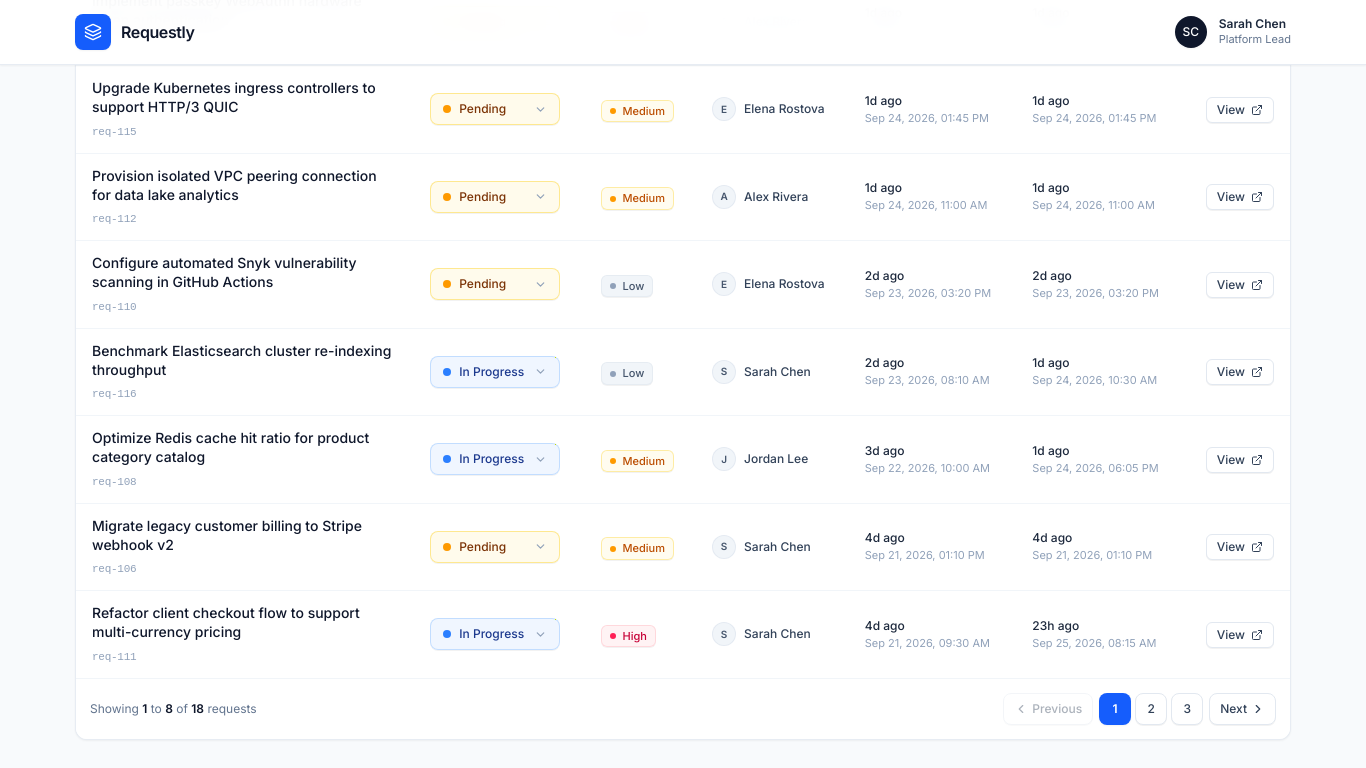
Scenario: Request Management Dashboard Integration Tests › navigates across pages and updates URL page parameter
(page scrolled)
Click the button with test id "pagination-next".
click(1243, 708)  # box [1209,692,1276,724]
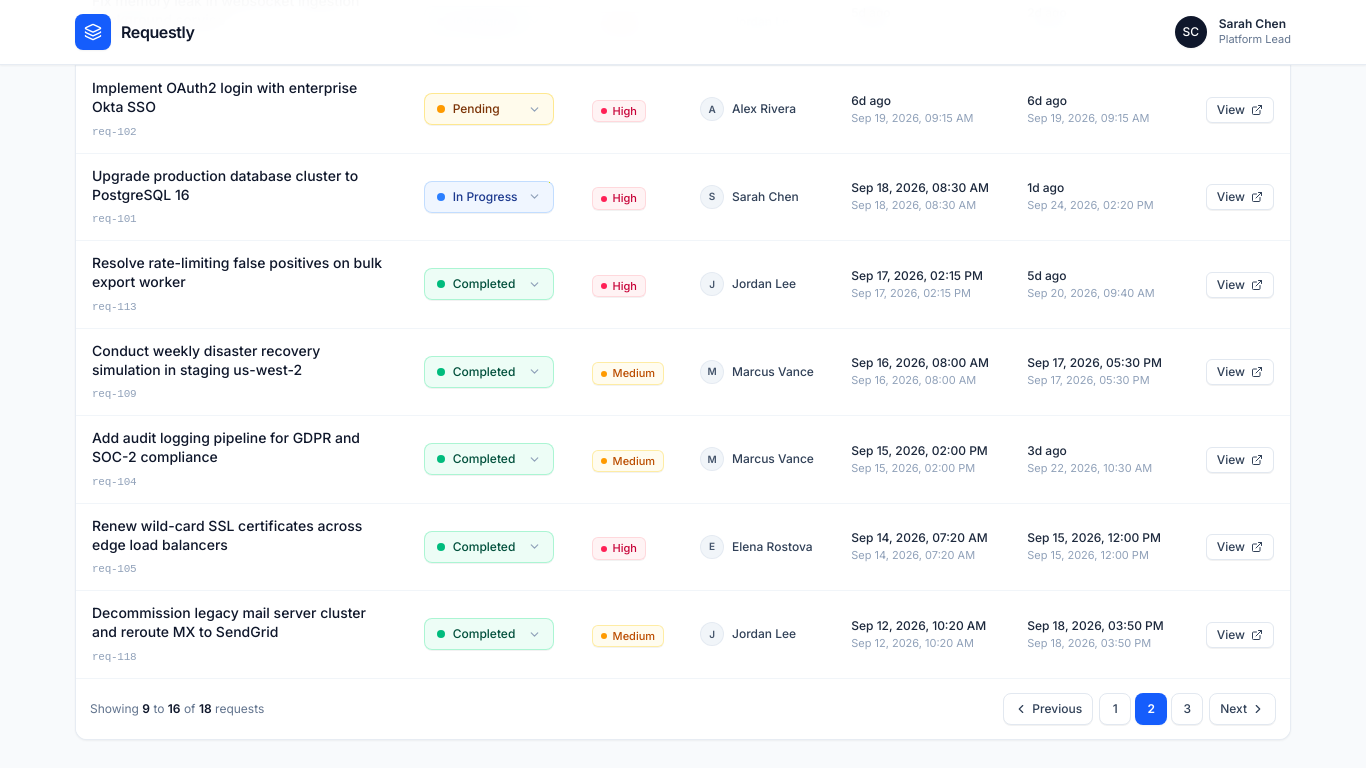
Expected: the link "Upgrade production database cluster to PostgreSQL 16" is shown, [92,166,392,204]
